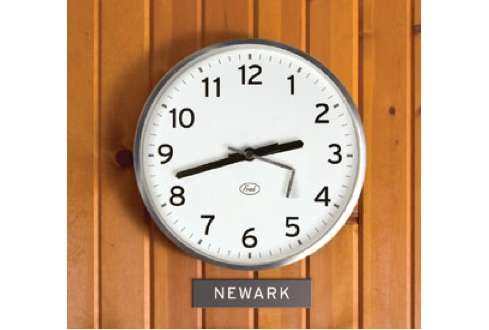clock: (144, 46, 358, 263)
